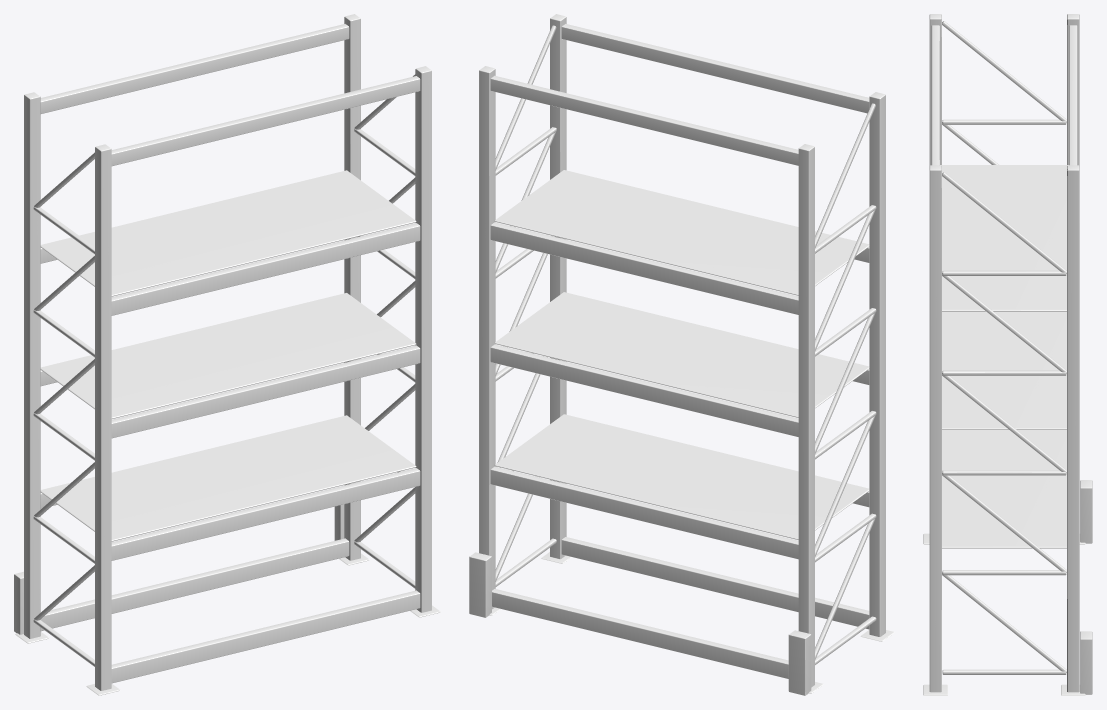
The model's file is storage_rack.glb.
3 views of the same model, side by side, from view 1: azimuth 30°, elevation 25°; view 2: azimuth 150°, elevation 25°; view 3: azimuth 270°, elevation 25° (orthographic). The views are drawn at different scales.
Parts seen in each view (by area): view 1: StorageRack; view 2: StorageRack; view 3: StorageRack.
Part boxes in pixels (x1,y1,x2,y2): StorageRack: [14, 14, 440, 695]; StorageRack: [469, 14, 894, 695]; StorageRack: [923, 14, 1092, 695].
Size of the model in its own units: 2.78 by 4.2 by 1.23.
Materials: 1 (1 with a texture image).
